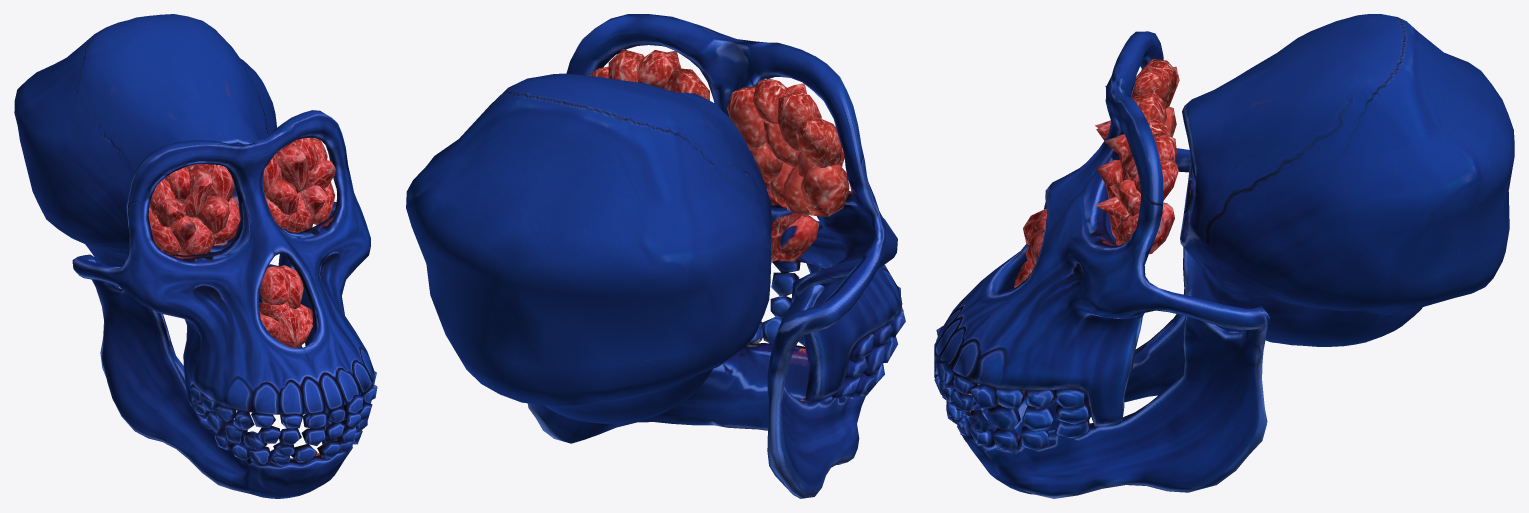
The model's file is Shield_Skull_AC.glb.
3 renders of one model, left to right at view 1: azimuth 30°, elevation 25°; view 2: azimuth 150°, elevation 25°; view 3: azimuth 270°, elevation 25°, orthographic. The views are drawn at different scales.
Parts seen in each view (by area): view 1: Mesh_0; view 2: Mesh_0; view 3: Mesh_0.
Part boxes in pixels (<box>): Mesh_0: <box>14,14,377,498</box>; Mesh_0: <box>406,14,905,498</box>; Mesh_0: <box>934,14,1514,498</box>.
Bounding box in the file's own units: 1.35 × 1.8 × 2.14.
1 material, 1 textured.
